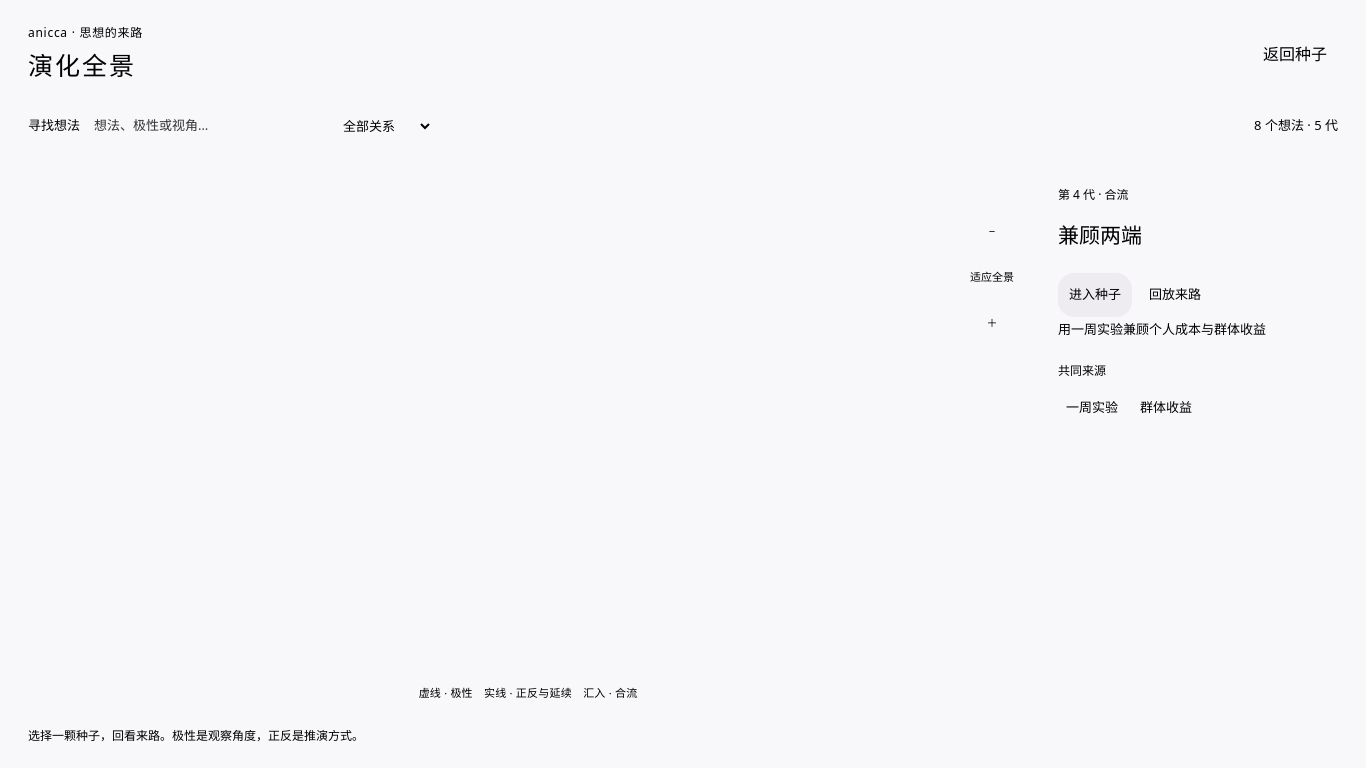
Test: evolution overview › searches a saved polarity and filters it separately from ordinary fission
Type "关切 个体" into the field at {"x": 202, "y": 126}, box [94,108,309,143]
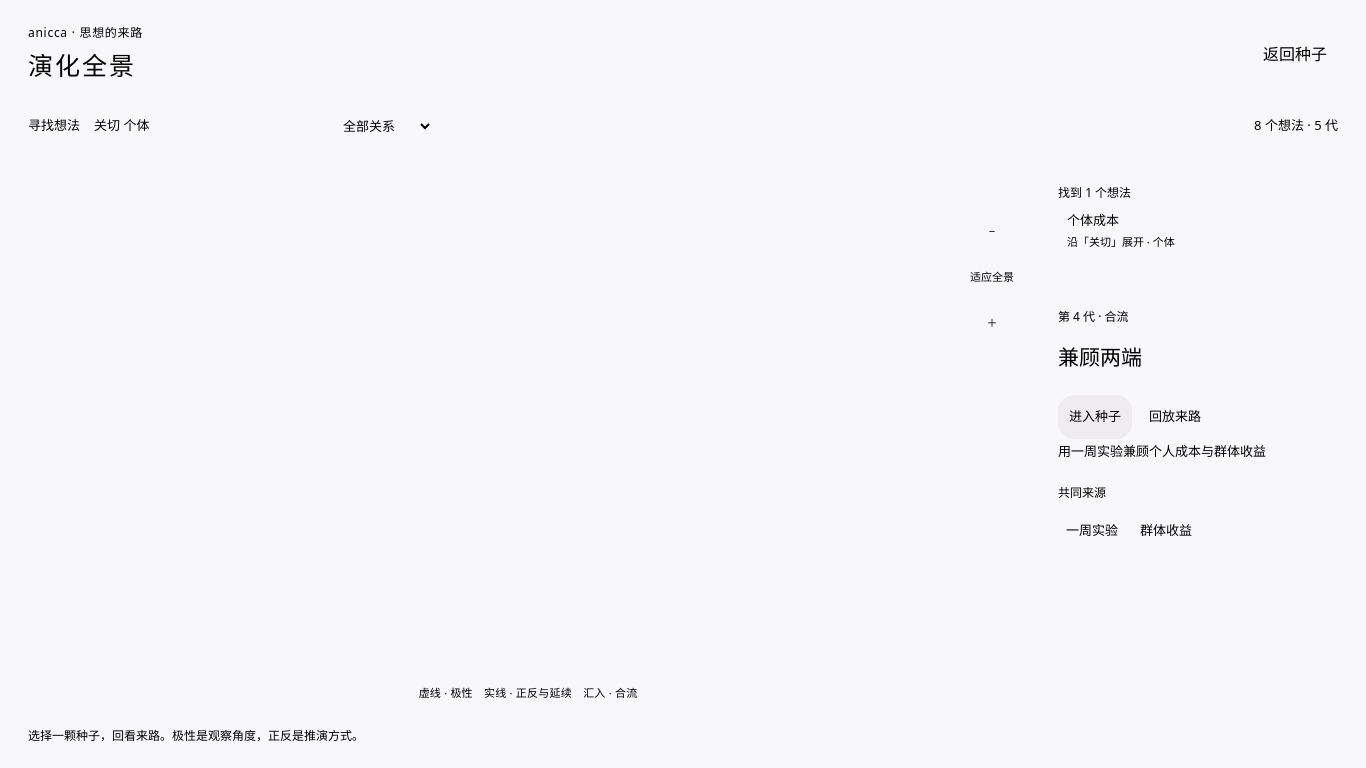
expect the text "找到 1 个想法" is shown: met, box [1058,184,1131,200]
Select "推演正反" in the dropdown at {"x": 382, "y": 126}, box [331,108,433,144]
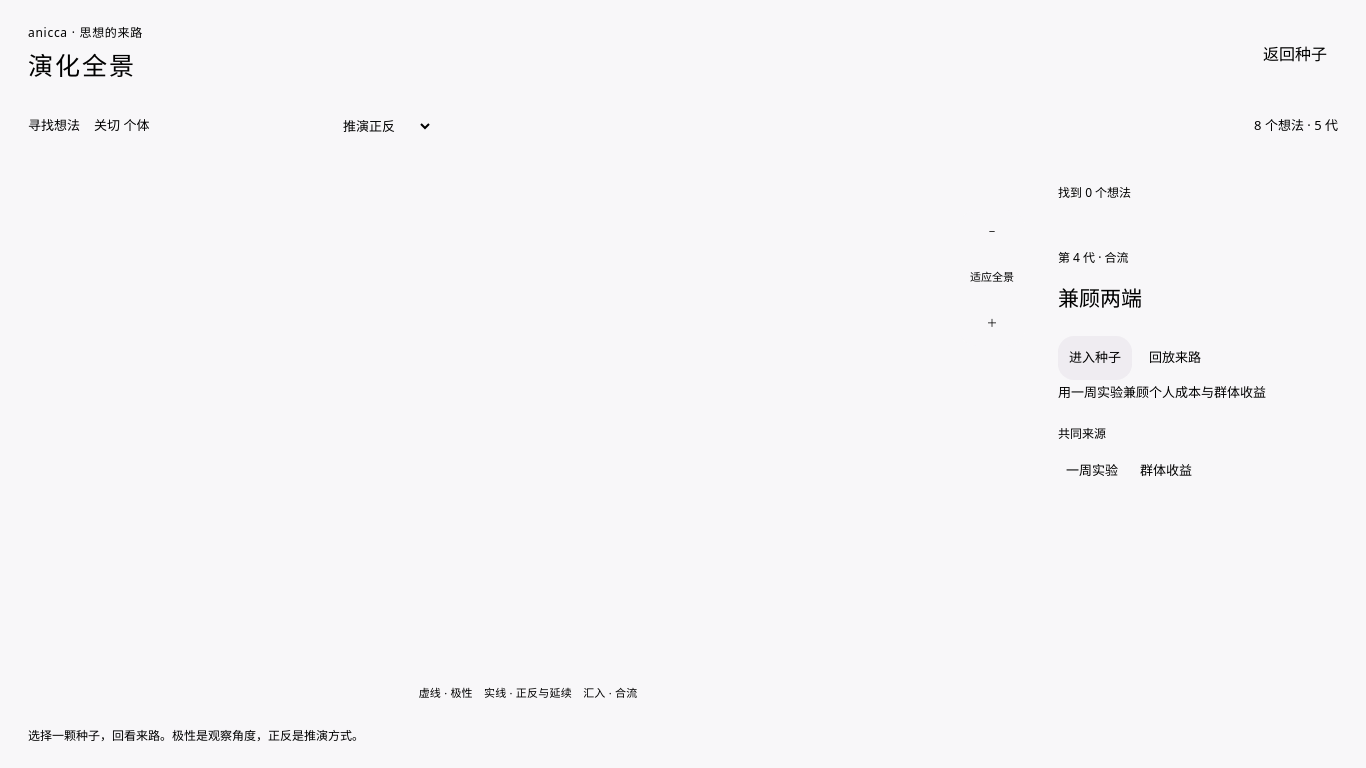
expect the text "找到 0 个想法" is shown: met, box [1058,184,1131,200]
Select "沿极性展开" in the dropdown at {"x": 382, "y": 126}, box [331,108,433,144]
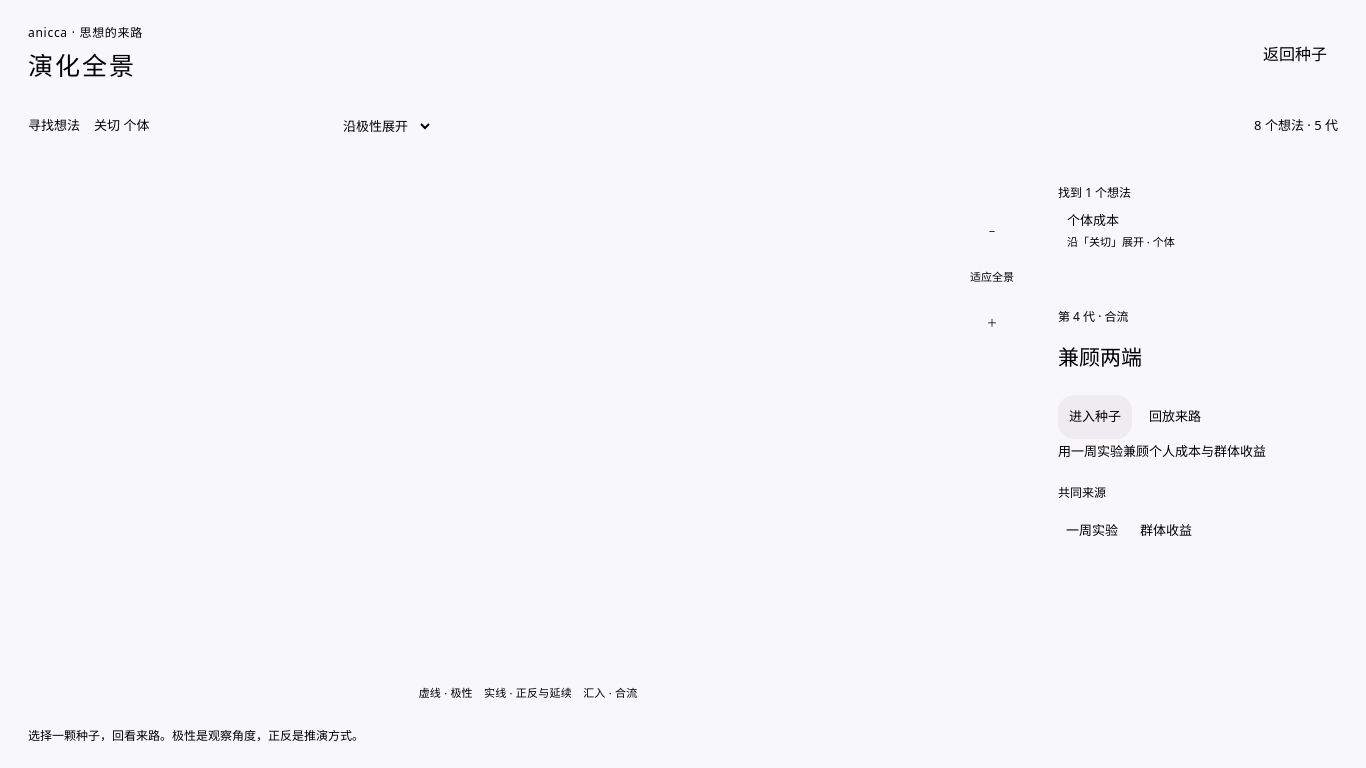
Click the button "个体成本 沿「关切」展开 · 个体" at {"x": 1093, "y": 220}, box [1058,202,1332,261]
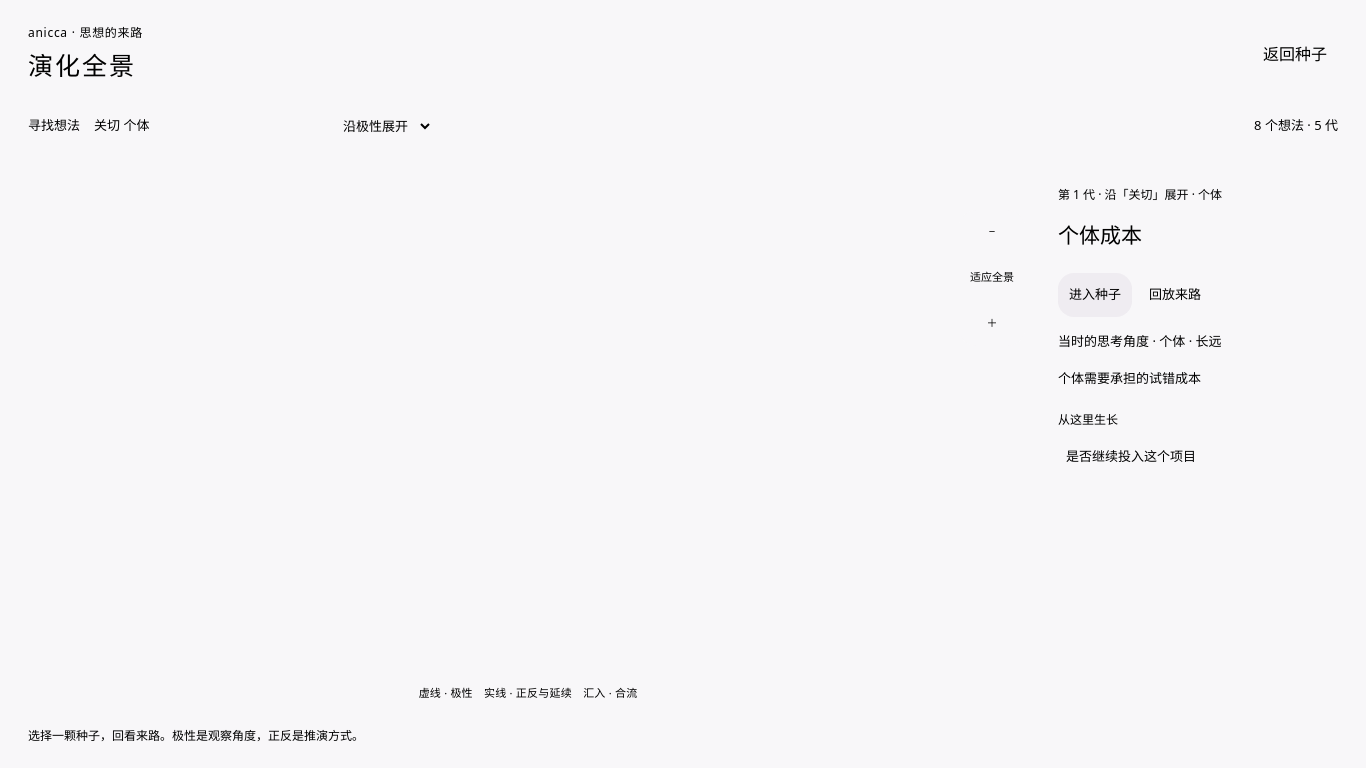
expect the heading "个体成本" is shown: met, box [1058,221,1142,249]
